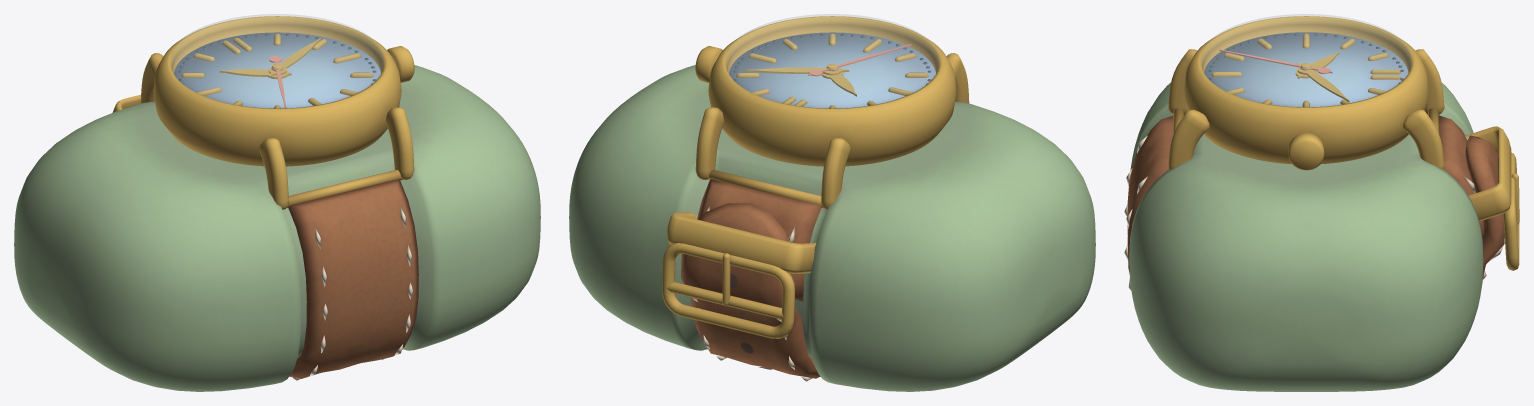
The model's file is wristwatch.glb.
The picture shows the model from 3 angles, left to right: view 1: azimuth 30°, elevation 25°; view 2: azimuth 150°, elevation 25°; view 3: azimuth 270°, elevation 25°; orthographic projection.
Visible parts, largest first — view 1: wristwatch_body, wristwatch_crystal; view 2: wristwatch_body, wristwatch_crystal, wristwatch_hand_minute; view 3: wristwatch_body, wristwatch_crystal, wristwatch_hand_minute, wristwatch_hand_second.
Boxes of the visible parts, bbox=[...] form: wristwatch_body: bbox=[14, 16, 540, 391]; wristwatch_crystal: bbox=[170, 14, 384, 108]; wristwatch_body: bbox=[569, 16, 1095, 391]; wristwatch_crystal: bbox=[725, 14, 939, 108]; wristwatch_hand_minute: bbox=[745, 67, 849, 75]; wristwatch_body: bbox=[1124, 16, 1519, 391]; wristwatch_crystal: bbox=[1201, 14, 1411, 106]; wristwatch_hand_minute: bbox=[1297, 63, 1349, 101]; wristwatch_hand_second: bbox=[1219, 50, 1332, 74].
Bounding box in the file's own units: 0.08 × 0.0474 × 0.062.
6 materials, 1 textured.
